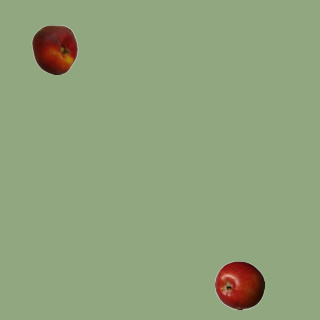Apple Braeburn: (214, 260, 264, 310)
Nectarine Flat: (29, 24, 79, 74)
